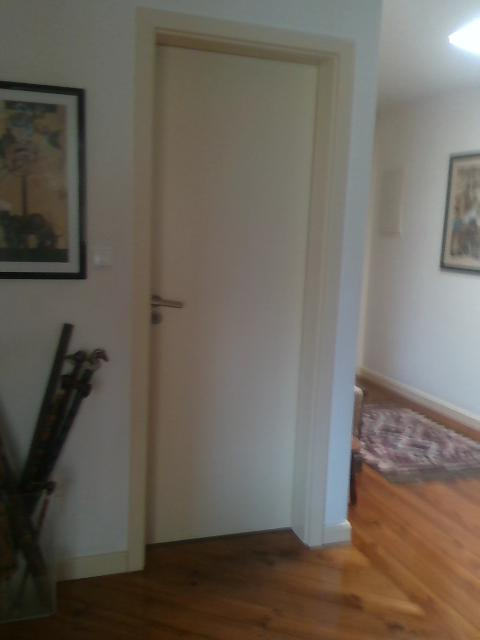closed_door: (131, 7, 352, 553)
